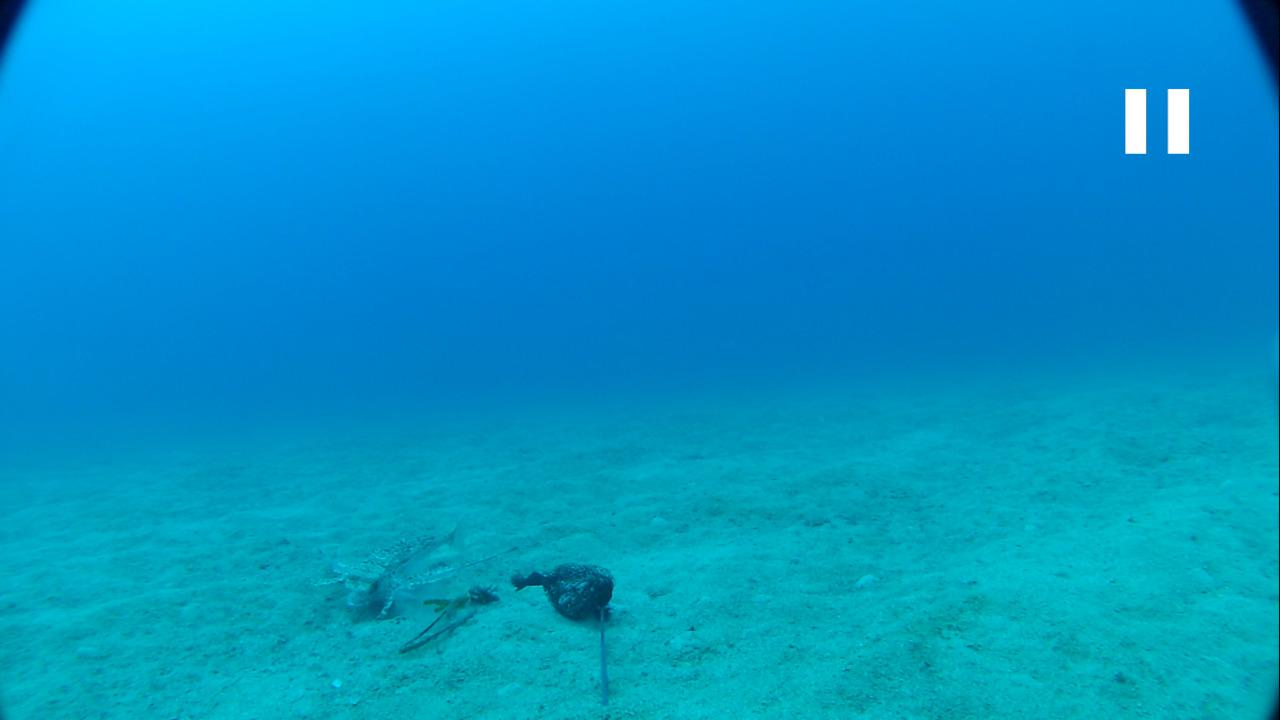dactylopterus: (310, 512, 489, 626)
